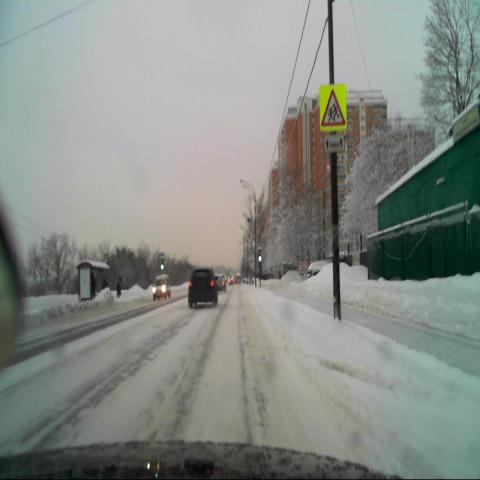8_2_1: (323, 134, 345, 154)
